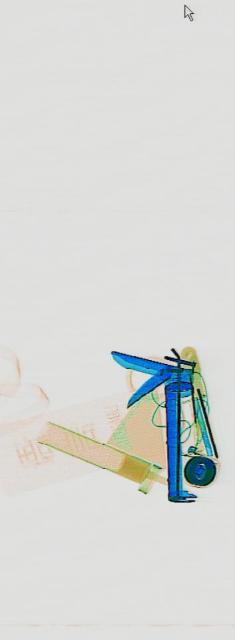Knife: (110, 344, 195, 504)
